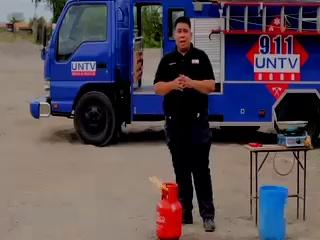Fire: (145, 173, 170, 191)
